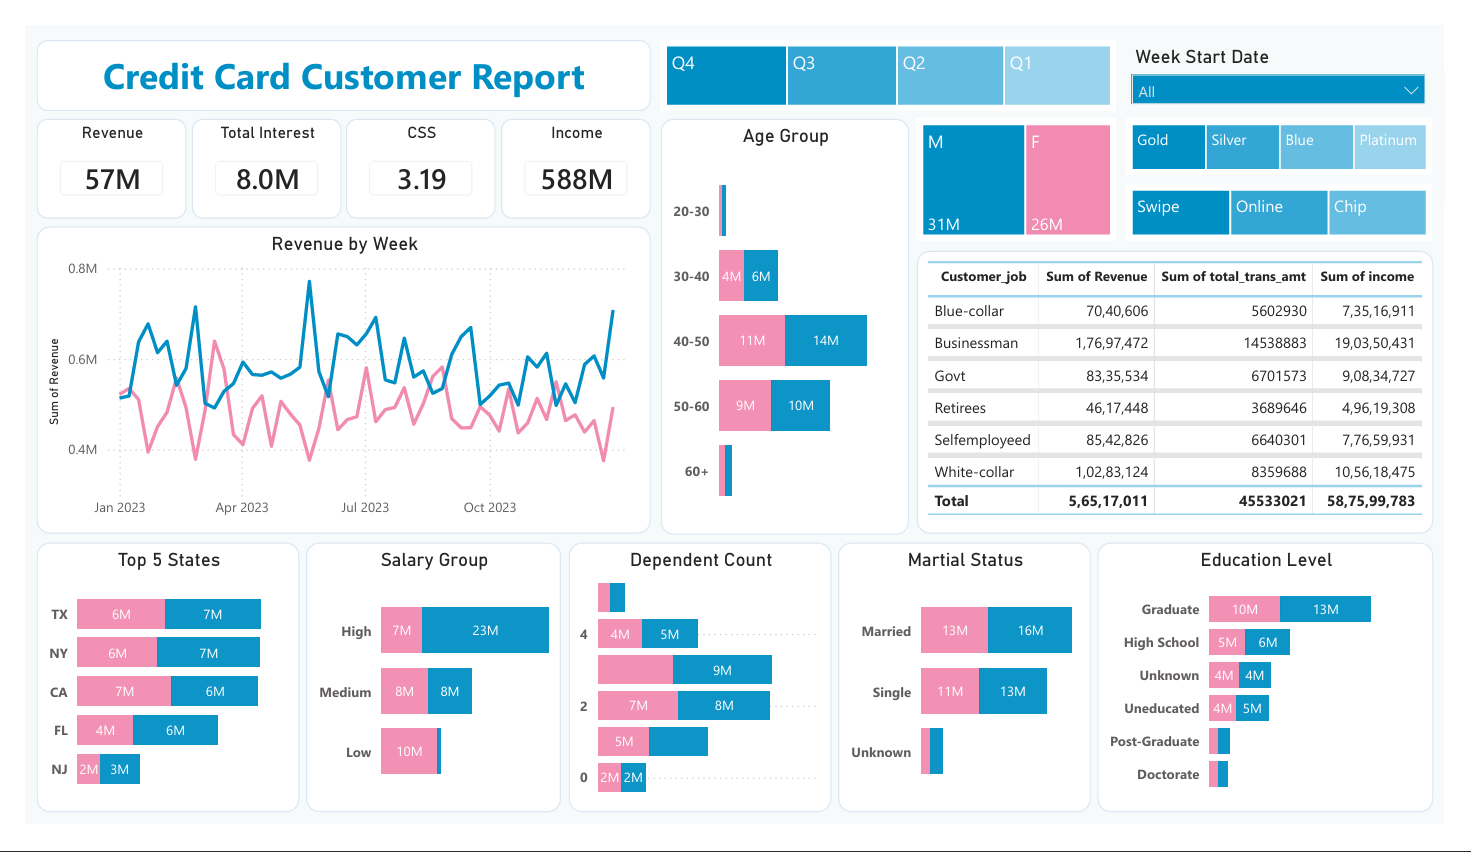

What the dashboard file says about the page in this screenshot:
{"tool":"powerbi","page":{"name":"CC_Customer","canvas":[1280,720],"ordinal":2},"visuals":[{"type":"textbox","box":[10,12.9,554.3,64.3],"z":0},{"type":"cardVisual","title":"Revenue","fields":{"Data":["Sum(public cc_detail.Revenue)"]},"box":[10,84,135,90],"z":1000},{"type":"cardVisual","title":"Income","fields":{"Data":["Sum(public cust_detail.income)"]},"box":[428.8,84,135,90],"z":2000},{"type":"cardVisual","title":"Total Interest","fields":{"Data":["Sum(public cc_detail.interest_earned)"]},"box":[149.6,84,135,90],"z":3000},{"type":"cardVisual","title":"CSS","fields":{"Data":["Avg(public cust_detail.cust_satisfaction_score)"]},"box":[289.2,84,135,90.1],"z":4000},{"type":"treemap","fields":{"Group":["public cc_detail.qtr"],"Values":["Avg(public cc_detail.client_num)"]},"box":[572.9,12.9,411.4,64.3],"z":5000},{"type":"lineChart","title":"Revenue by Week","fields":{"Y":["Sum(public cc_detail.Revenue)"],"Series":["public cust_detail.gender"],"Category":["public cc_detail.week_start_date.Variation.Date Hierarchy.Year","public cc_detail.week_start_date.Variation.Date Hierarchy.Month","public cc_detail.week_start_date.Variation.Date Hierarchy.Day"]},"box":[10,181.4,554.3,277],"z":6000},{"type":"treemap","fields":{"Group":["public cust_detail.gender"],"Values":["Sum(public cc_detail.Revenue)"]},"box":[803.8,83.8,180,110],"z":7000},{"type":"barChart","title":"Salary Group","fields":{"Y":["Sum(public cc_detail.Revenue)"],"Category":["public cust_detail.IncomeGroup"],"Series":["public cust_detail.gender"]},"box":[252.9,465.7,230,242.9],"z":8000},{"type":"barChart","title":"Age Group","fields":{"Y":["Sum(public cc_detail.Revenue)"],"Category":["public cust_detail.AgeGroup"],"Series":["public cust_detail.gender"]},"box":[572.9,84.3,224.3,374.3],"z":9000},{"type":"barChart","title":"Dependent Count","fields":{"Y":["Sum(public cc_detail.Revenue)"],"Category":["public cust_detail.dependent_count"],"Series":["public cust_detail.gender"]},"box":[490,465.7,237.1,242.9],"z":10000},{"type":"barChart","title":"Top 5 States","fields":{"Y":["Sum(public cc_detail.Revenue)"],"Category":["public cust_detail.state_cd"],"Series":["public cust_detail.gender"]},"box":[10,465.7,237.1,242.9],"z":11000},{"type":"barChart","title":"Education Level","fields":{"Y":["Sum(public cc_detail.Revenue)"],"Category":["public cust_detail.education_level"],"Series":["public cust_detail.gender"]},"box":[967.1,465.7,302.9,242.9],"z":12000},{"type":"tableEx","fields":{"Values":["public cust_detail.customer_job","Sum(public cc_detail.Revenue)","Sum(public cc_detail.total_trans_amt)","Sum(public cust_detail.income)"]},"box":[803.8,202.5,466.2,255],"z":13000},{"type":"barChart","title":"Martial Status","fields":{"Y":["Sum(public cc_detail.Revenue)"],"Category":["public cust_detail.marital_status"],"Series":["public cust_detail.gender"]},"box":[732.9,465.7,228.6,242.9],"z":14000},{"type":"slicer","fields":{"Values":["public cc_detail.week_start_date"]},"box":[992.9,12.9,277.1,68.6],"z":15000},{"type":"treemap","fields":{"Values":["Avg(public cc_detail.client_num)"],"Group":["public cc_detail.card_category"]},"box":[992.5,83.8,276.2,51.2],"z":16000},{"type":"treemap","fields":{"Values":["Avg(public cc_detail.client_num)"],"Group":["public cc_detail.use_chip"]},"box":[992.5,142.5,276.2,51.2],"z":17000}]}

Visuals, with their boxes in screenshot pixels (x1, y1, x2, y2), scaled from the page's 1280x720 canvas onto the 1471x852 screenshot:
textbox: BBox(11, 15, 649, 91)
"Revenue" cardVisual: BBox(11, 99, 167, 206)
"Income" cardVisual: BBox(493, 99, 648, 206)
"Total Interest" cardVisual: BBox(172, 99, 327, 206)
"CSS" cardVisual: BBox(332, 99, 487, 206)
treemap - public cc_detail.qtr x Avg(public cc_detail.client_num): BBox(658, 15, 1131, 91)
"Revenue by Week" lineChart: BBox(11, 215, 649, 542)
treemap - public cust_detail.gender x Sum(public cc_detail.Revenue): BBox(924, 99, 1131, 229)
"Salary Group" barChart: BBox(291, 551, 555, 839)
"Age Group" barChart: BBox(658, 100, 916, 543)
"Dependent Count" barChart: BBox(563, 551, 836, 839)
"Top 5 States" barChart: BBox(11, 551, 284, 839)
"Education Level" barChart: BBox(1111, 551, 1460, 839)
tableEx - public cust_detail.customer_job x Sum(public cc_detail.Revenue): BBox(924, 240, 1460, 541)
"Martial Status" barChart: BBox(842, 551, 1105, 839)
slicer - public cc_detail.week_start_date: BBox(1141, 15, 1460, 96)
treemap - Avg(public cc_detail.client_num) x public cc_detail.card_category: BBox(1141, 99, 1458, 160)
treemap - Avg(public cc_detail.client_num) x public cc_detail.use_chip: BBox(1141, 169, 1458, 229)
